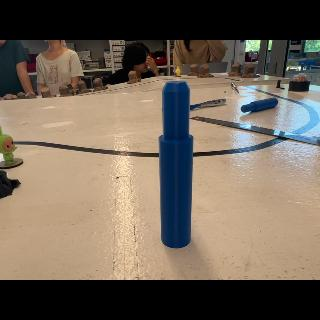teletubby: (0, 125, 17, 165)
